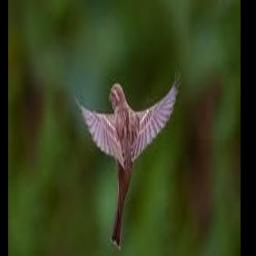Sparrow: (73, 71, 181, 250)
